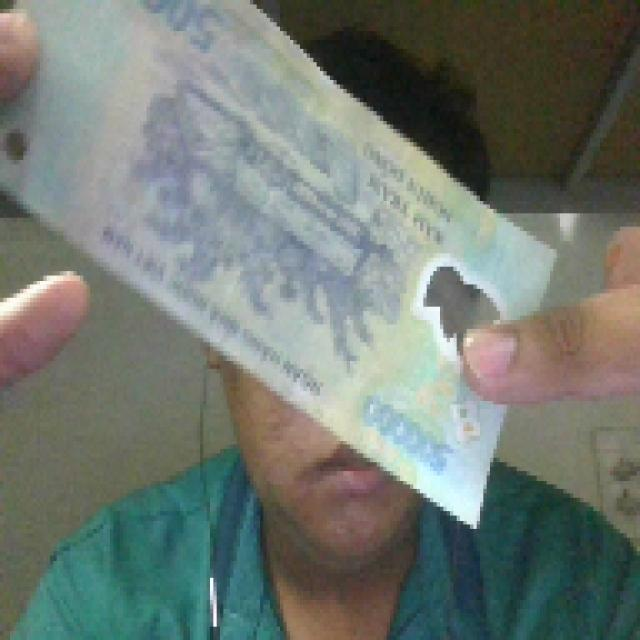500 000 VND: (0, 0, 560, 533)
